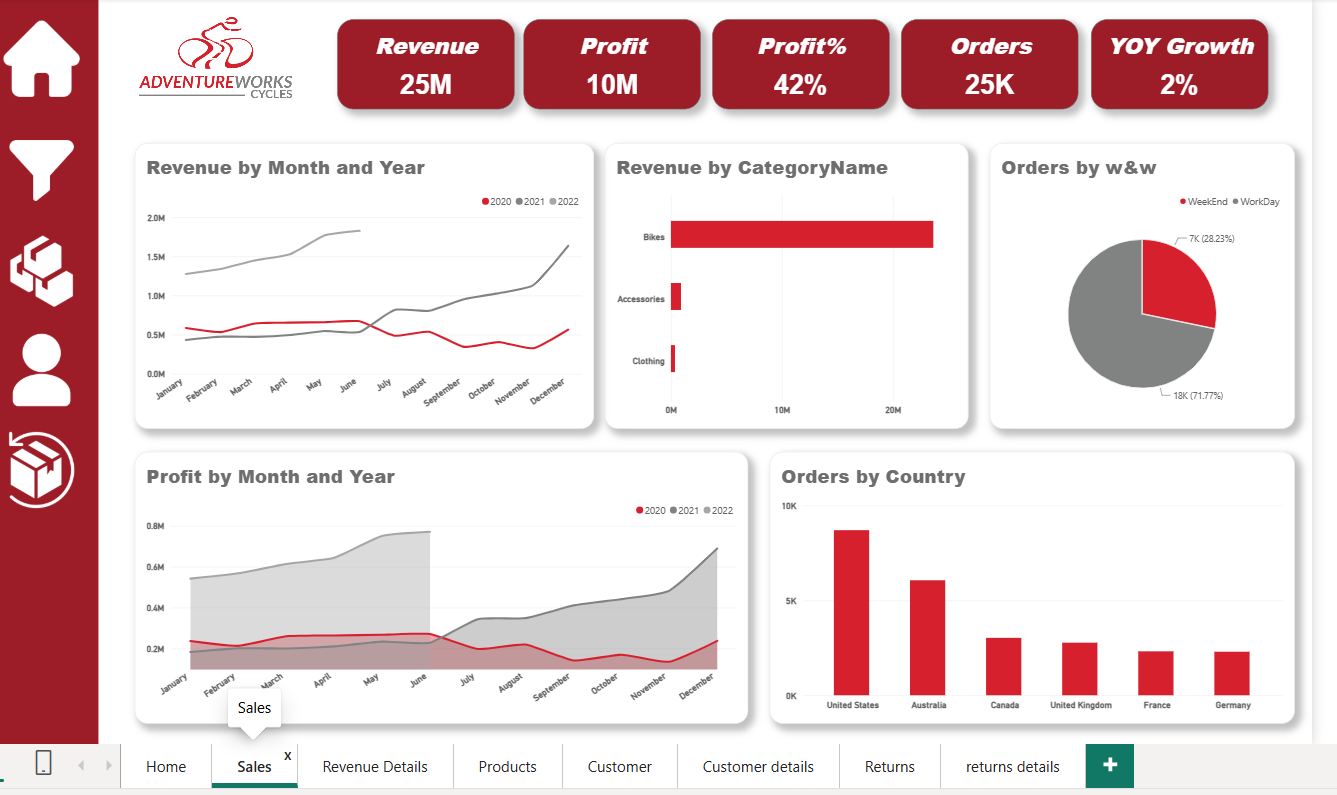

The dashboard page shown, as its layout file describes it:
{"tool":"powerbi","page":{"name":"Sales","canvas":[1920,1080],"ordinal":1},"visuals":[{"type":"image","box":[86.7,15,488.3,145],"z":0},{"type":"shape","box":[10,0,151.7,1080],"z":1000},{"type":"advanceCardE03760C5AB684758B56AA29F9E6C257B","title":"Revenue","fields":{"mainMeasure":["Measur.Revenue"]},"box":[508.3,30,256.7,130],"z":2000},{"type":"advanceCardE03760C5AB684758B56AA29F9E6C257B","title":"Profit","fields":{"mainMeasure":["Measur.Profit"]},"box":[778.3,30,256.7,130],"z":3000},{"type":"advanceCardE03760C5AB684758B56AA29F9E6C257B","title":"Profit%","fields":{"mainMeasure":["Measur.Profit%"]},"box":[1051.7,30,256.7,130],"z":4000},{"type":"advanceCardE03760C5AB684758B56AA29F9E6C257B","title":"Orders","fields":{"mainMeasure":["Measur.Orders"]},"box":[1325,30,256.7,130],"z":5000},{"type":"advanceCardE03760C5AB684758B56AA29F9E6C257B","title":"YOY Growth","fields":{"mainMeasure":["Measur.YOY"]},"box":[1600,30,256.7,130],"z":6000},{"type":"lineChart","fields":{"Category":["Calendar.Date.Variation.Date Hierarchy.Year","Calendar.Date.Variation.Date Hierarchy.Quarter","Calendar.Date.Variation.Date Hierarchy.Month","Calendar.Date.Variation.Date Hierarchy.Day"],"Series":["Calendar.Date.Variation.Date Hierarchy.Year"],"Y":["Measur.Revenue"]},"box":[215,210,665,413.3],"z":7000},{"type":"barChart","fields":{"Category":["Product Categories.CategoryName"],"Y":["Measur.Revenue"]},"box":[895,210,526.7,413.3],"z":8000},{"type":"areaChart","fields":{"Category":["Calendar.Date.Variation.Date Hierarchy.Month"],"Series":["Calendar.Date.Variation.Date Hierarchy.Year"],"Y":["Measur.Profit"]},"box":[215,656.7,888.3,393.3],"z":9000},{"type":"columnChart","fields":{"Category":["Territory.Country"],"Y":["Measur.Profit"]},"box":[1135,656.7,760,393.3],"z":10000},{"type":"pieChart","fields":{"Series":["Sales.w&w"],"Y":["Measur.Orders"]},"box":[1453.3,210,441.7,413.3],"z":11000},{"type":"image","box":[25,26.7,110,121.7],"z":12000},{"type":"image","box":[25,186.7,110,121.7],"z":13000},{"type":"image","box":[25,335,110,121.7],"z":14000},{"type":"image","box":[25,478.3,110,121.7],"z":15000},{"type":"image","box":[25,623.3,110,121.7],"z":16000}]}

Visuals, with their boxes on the page's 1920x1080 design canvas (x1, y1, x2, y2). These are canvas units, not pixel positions in the 1337x795 screenshot, which may show the page scaled, cropped or inside an application window:
image: [87,15,575,160]
shape: [10,0,162,1080]
"Revenue" advanceCardE03760C5AB684758B56AA29F9E6C257B: [508,30,765,160]
"Profit" advanceCardE03760C5AB684758B56AA29F9E6C257B: [778,30,1035,160]
"Profit%" advanceCardE03760C5AB684758B56AA29F9E6C257B: [1052,30,1308,160]
"Orders" advanceCardE03760C5AB684758B56AA29F9E6C257B: [1325,30,1582,160]
"YOY Growth" advanceCardE03760C5AB684758B56AA29F9E6C257B: [1600,30,1857,160]
lineChart - Calendar.Date.Variation.Date Hierarchy.Year x Calendar.Date.Variation.Date Hierarchy.Quarter: [215,210,880,623]
barChart - Product Categories.CategoryName x Measur.Revenue: [895,210,1422,623]
areaChart - Calendar.Date.Variation.Date Hierarchy.Month x Calendar.Date.Variation.Date Hierarchy.Year: [215,657,1103,1050]
columnChart - Territory.Country x Measur.Profit: [1135,657,1895,1050]
pieChart - Sales.w&w x Measur.Orders: [1453,210,1895,623]
image: [25,27,135,148]
image: [25,187,135,308]
image: [25,335,135,457]
image: [25,478,135,600]
image: [25,623,135,745]
